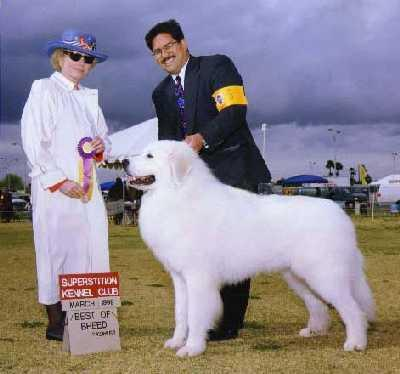Great_Pyrenees: (118, 137, 379, 363)
